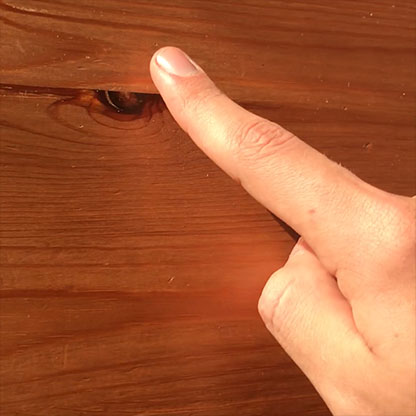fingertip: (140, 36, 216, 94)
